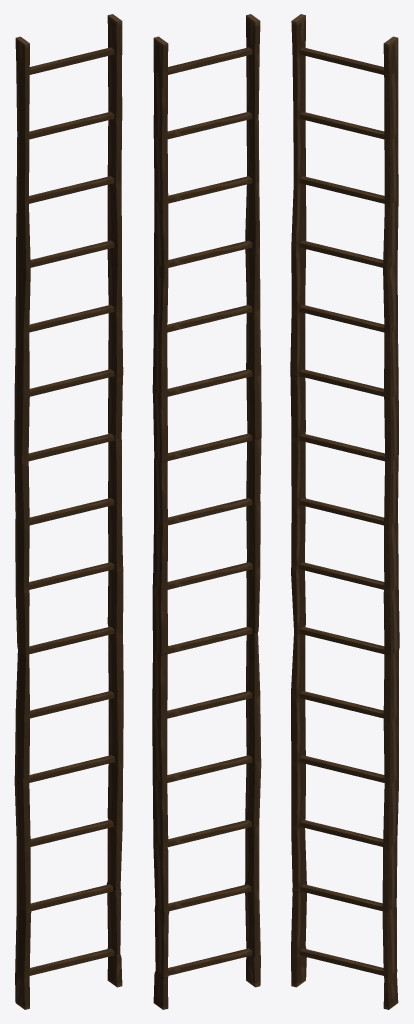
Rendered from Ladder_Geo.fbx.
3 renders of one model, left to right at view 1: azimuth 30°, elevation 25°; view 2: azimuth 210°, elevation 25°; view 3: azimuth 330°, elevation 25°, orthographic.
Visible parts, largest first — view 1: Ladder_Geo; view 2: Ladder_Geo; view 3: Ladder_Geo.
Part boxes in pixels (x1,y1,x2,y2): Ladder_Geo: [14, 14, 123, 1009]; Ladder_Geo: [152, 14, 261, 1009]; Ladder_Geo: [290, 14, 399, 1009].
Size of the model in its own units: 48.9 by 450 by 8.74.
